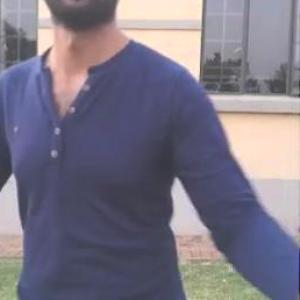land: (1, 0, 294, 299)
